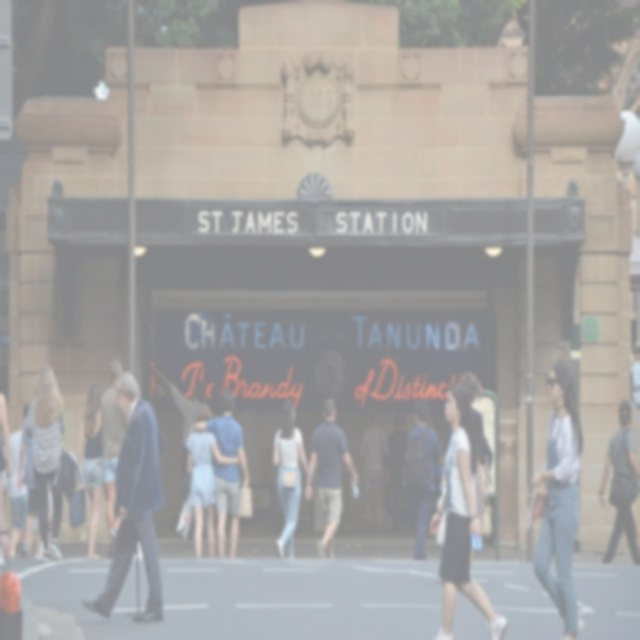pessoa: (78, 368, 169, 628), (428, 381, 510, 639), (515, 355, 588, 639), (20, 362, 86, 566), (189, 388, 250, 561), (176, 401, 240, 560), (304, 396, 360, 560), (592, 394, 640, 582), (400, 398, 444, 562), (150, 360, 206, 480), (100, 355, 132, 563), (272, 398, 312, 562), (456, 370, 489, 566), (2, 402, 35, 560), (76, 381, 104, 562), (356, 404, 392, 538), (16, 386, 42, 563), (382, 411, 413, 538), (0, 515, 25, 639), (0, 392, 13, 517), (26, 512, 46, 564), (630, 344, 640, 410)
